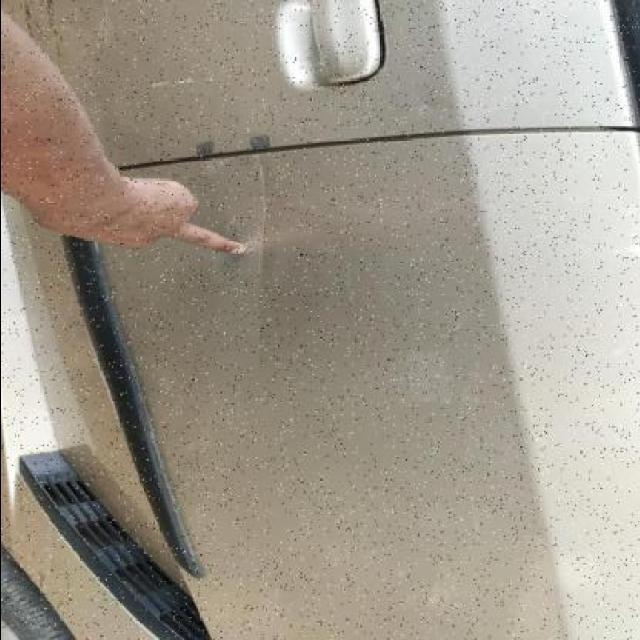doorouter-dent: (36, 0, 610, 138)
